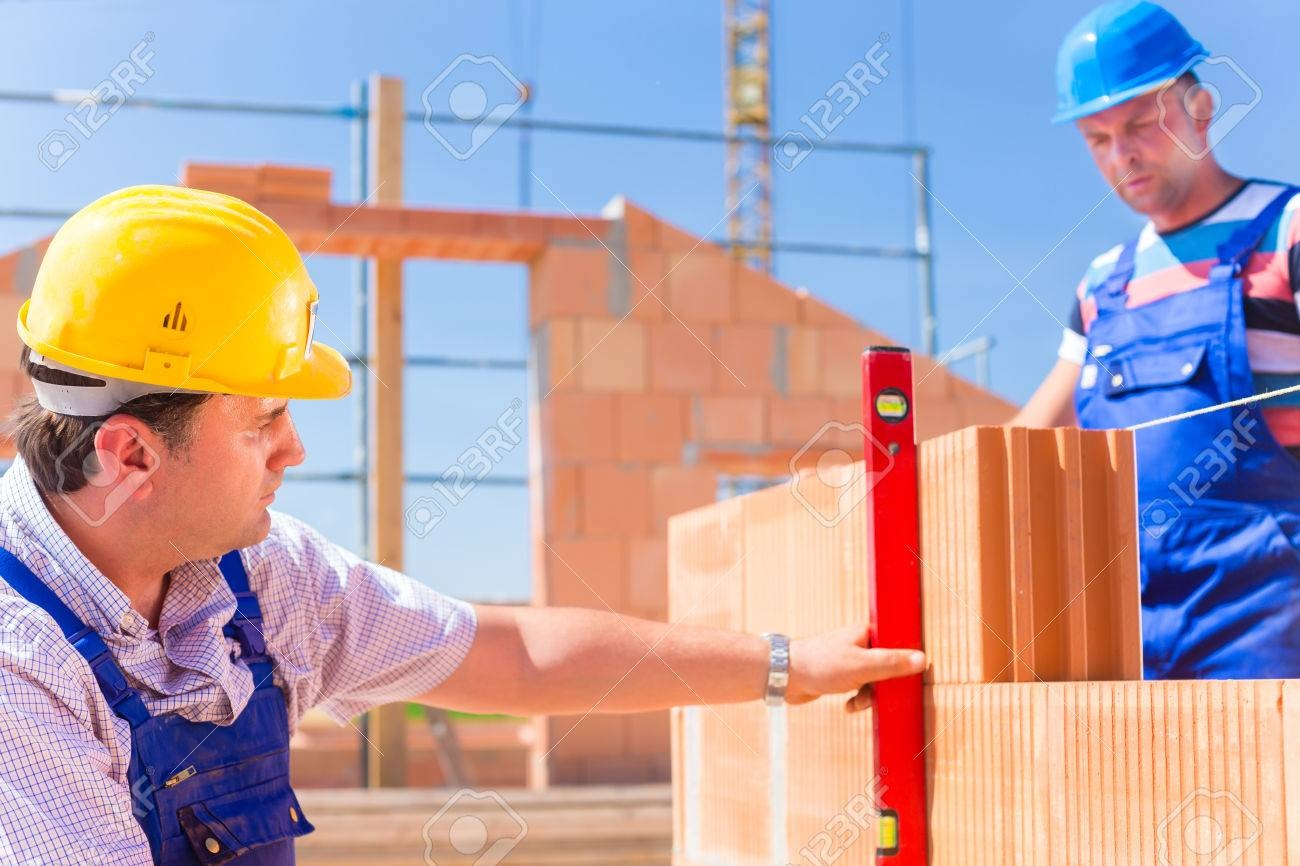blue: (1060, 2, 1206, 216)
yellow: (39, 185, 314, 553)
